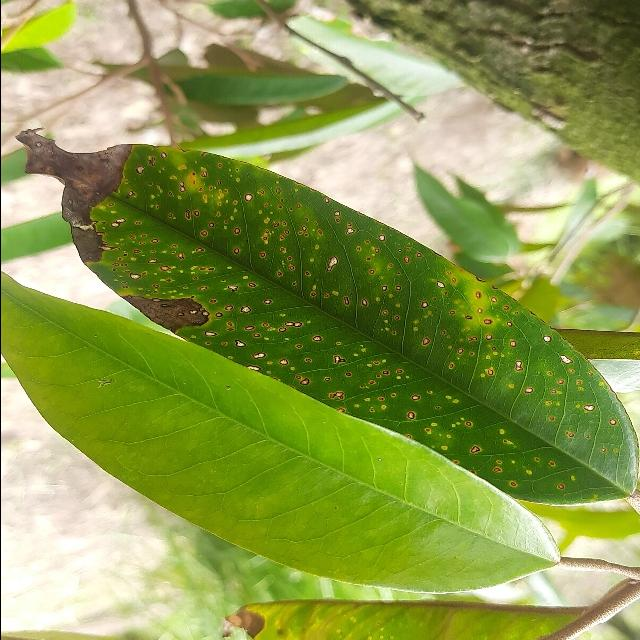Leaf Spot: (9, 117, 640, 511)
No Disease: (0, 262, 559, 593)
